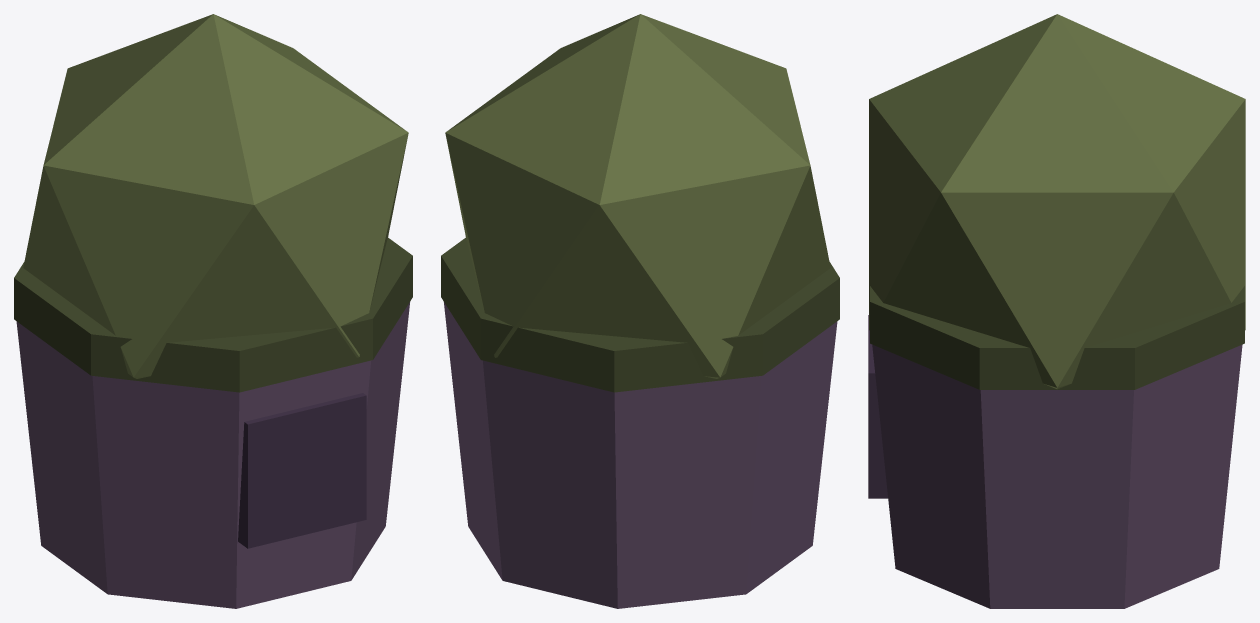
Rendered from inf_v2_brute_upper_arm_l.fbx.
The picture shows the model from 3 angles, left to right: view 1: azimuth 30°, elevation 25°; view 2: azimuth 150°, elevation 25°; view 3: azimuth 270°, elevation 25°; orthographic projection.
Parts seen in each view (by area): view 1: inf_v2_brute_upper_arm_l; view 2: inf_v2_brute_upper_arm_l; view 3: inf_v2_brute_upper_arm_l.
Part boxes in pixels (x1,y1,x2,y2): inf_v2_brute_upper_arm_l: (14,14,412,608); inf_v2_brute_upper_arm_l: (441,14,839,608); inf_v2_brute_upper_arm_l: (868,14,1245,608).
Bounding box in the file's own units: 85.86 × 126 × 81.83.
